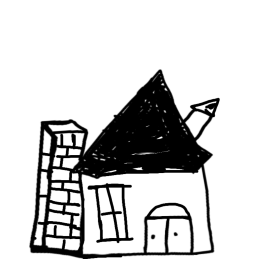bottom_placed_house: (1, 1, 260, 260)
chimney: (34, 105, 104, 177), (181, 89, 232, 145)
closed_window: (86, 180, 138, 246)
door: (139, 193, 197, 260)
shaded_roof: (75, 60, 224, 181)
wall: (74, 153, 217, 260)
